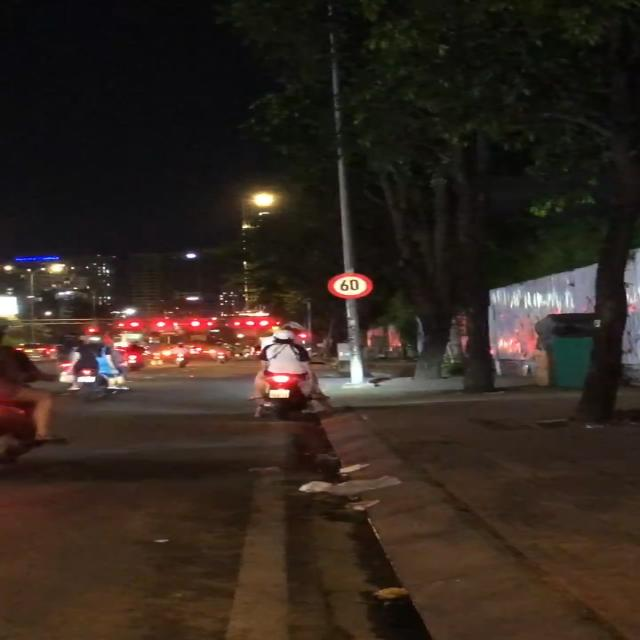Bien bao toc do toi da cho phep: (323, 272, 386, 304)
